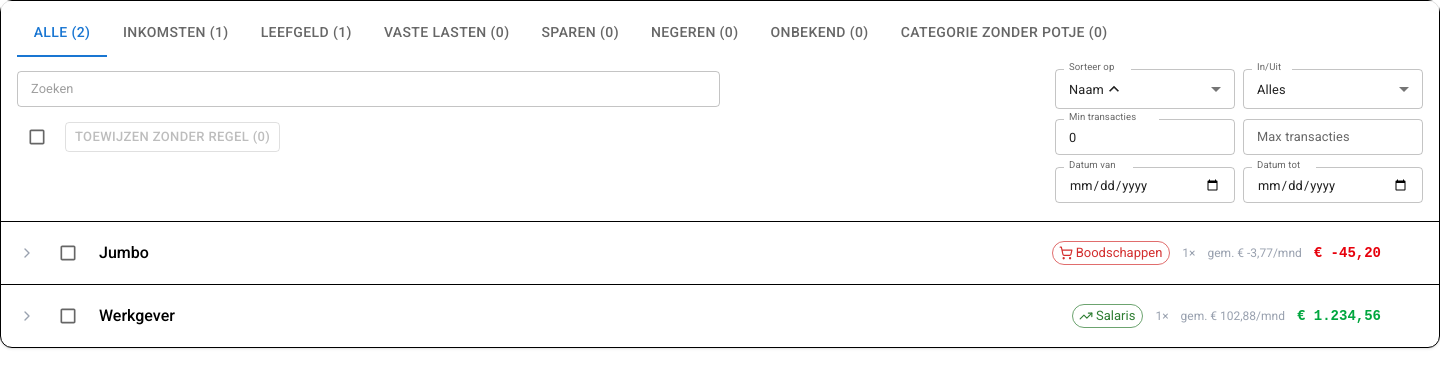
Test: CategoryBreakdown › searches on negative bedrag with comma notation
Step 1. Type "-45,2" into the field labelled "Zoeken" → {"x": 368, "y": 89}, box left=17, top=71, right=720, bottom=107
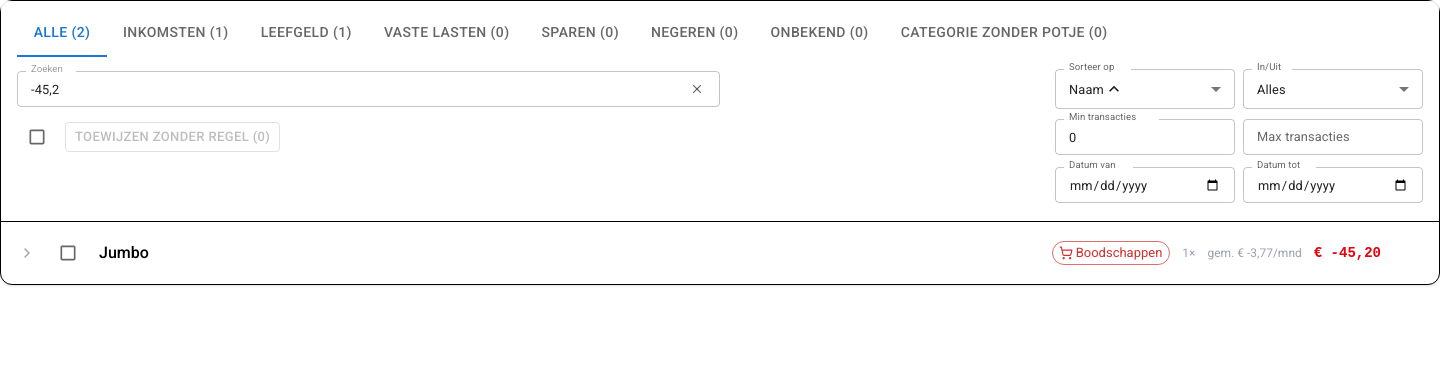
Expected: the text "Jumbo" is shown, left=99, top=243, right=149, bottom=262
Now the button "Werkgever" is gone
